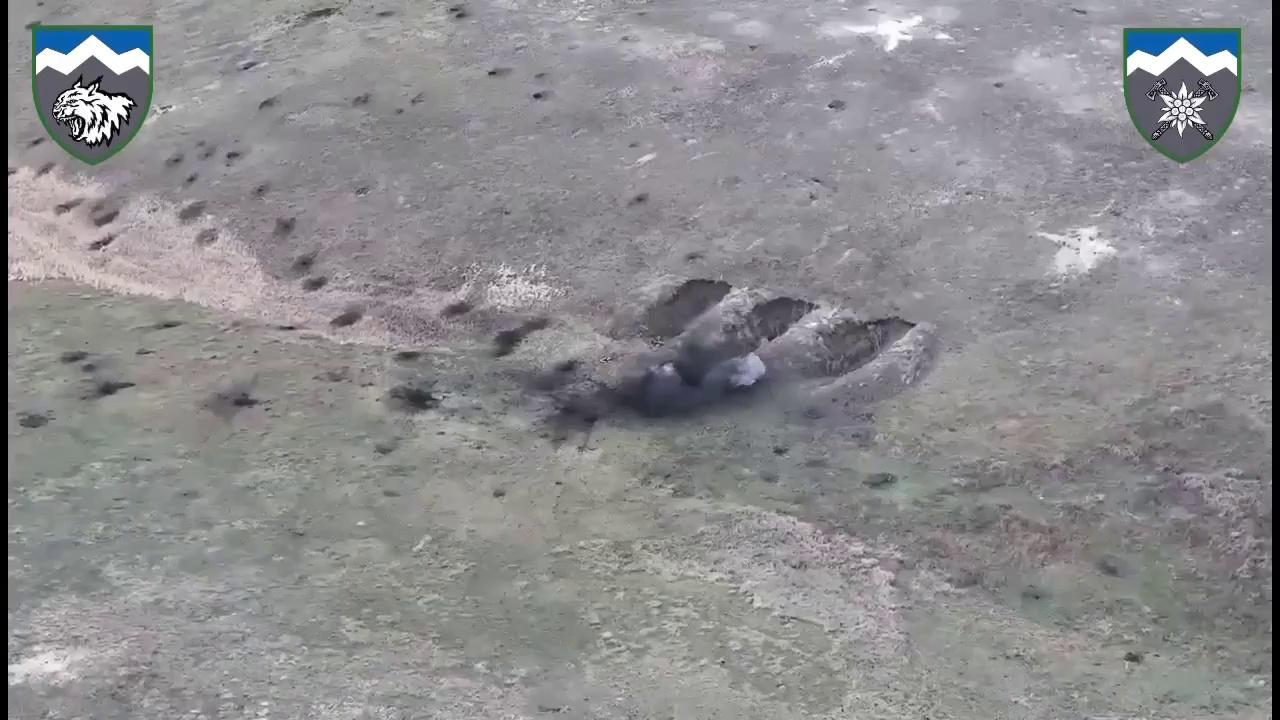trench: (701, 290, 820, 382), (804, 313, 922, 398), (623, 270, 738, 346)
